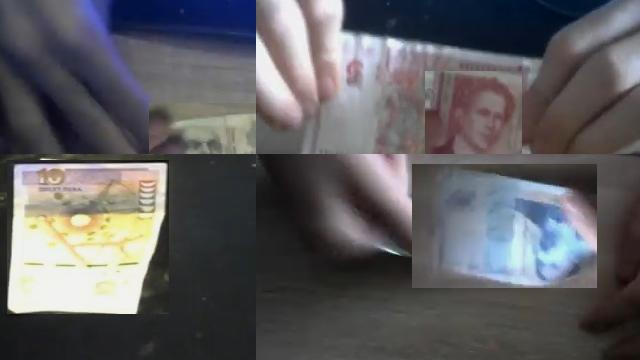10leva: (7, 160, 169, 314)
20leva: (412, 164, 597, 288)
5leva: (300, 31, 640, 154), (427, 71, 522, 154)
